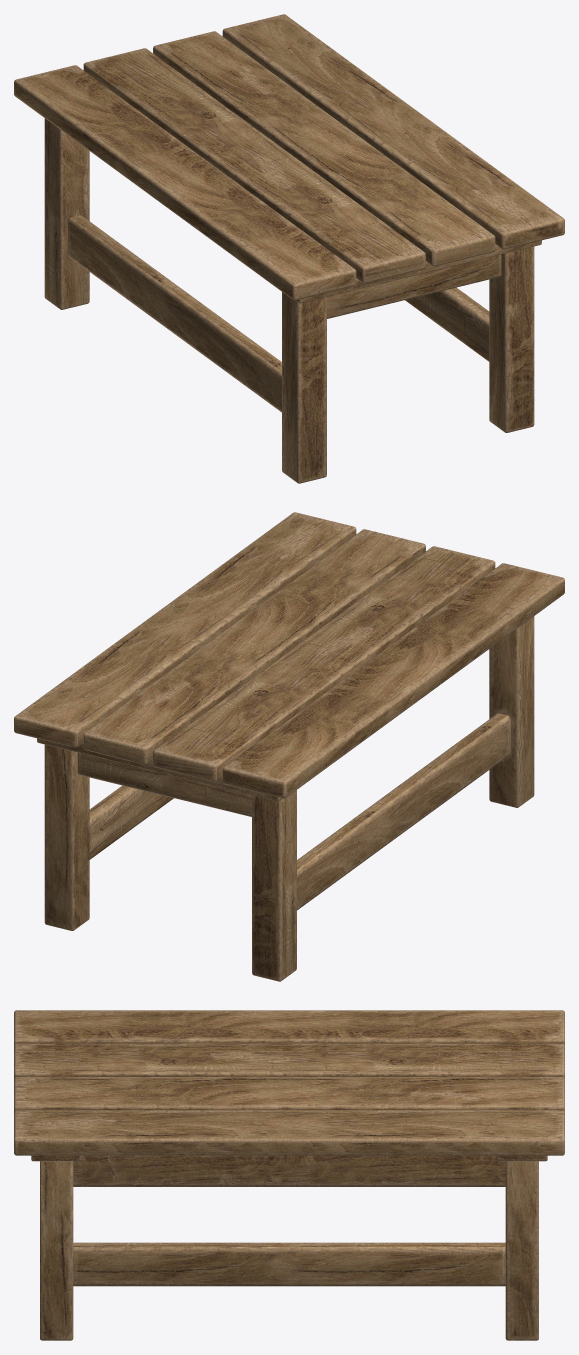
Rendered from wooden_table.glb.
3 views of the same model, one above another, from view 1: azimuth 30°, elevation 25°; view 2: azimuth 150°, elevation 25°; view 3: azimuth 270°, elevation 25° (orthographic).
Parts seen in each view (by area): view 1: Object_2; view 2: Object_2; view 3: Object_2.
Boxes of the visible parts, bbox=[...] form: Object_2: bbox=[14, 14, 564, 483]; Object_2: bbox=[14, 512, 564, 981]; Object_2: bbox=[14, 1010, 564, 1340].
Size of the model in its own units: 3.91 by 2.94 by 6.99.
Materials: 1 (1 with a texture image).
